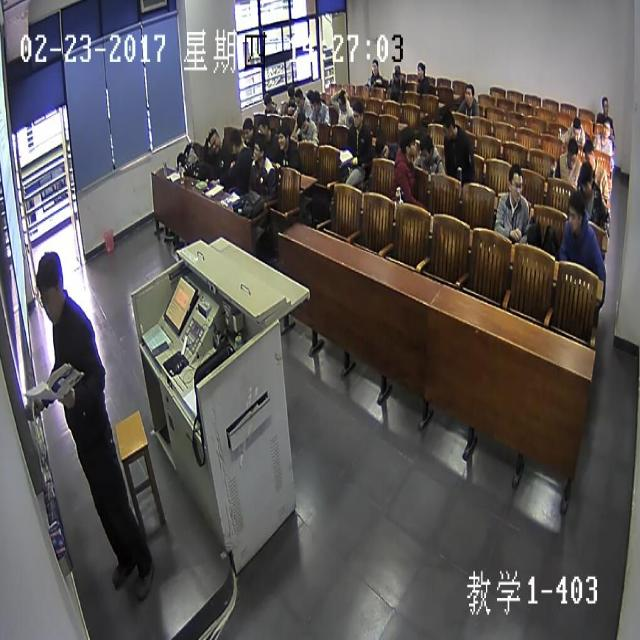person: (35, 253, 65, 318), (566, 191, 584, 232), (507, 162, 523, 205), (398, 126, 416, 159), (576, 162, 594, 195), (417, 137, 434, 169), (228, 126, 242, 154), (441, 111, 455, 137), (375, 133, 390, 157), (566, 139, 578, 167), (207, 124, 220, 149), (350, 106, 363, 131), (251, 136, 264, 160), (336, 89, 348, 114), (295, 109, 307, 134), (278, 125, 290, 148), (174, 150, 189, 168), (242, 117, 254, 139), (583, 140, 595, 162), (258, 116, 269, 137), (464, 84, 474, 107), (264, 88, 274, 110), (572, 116, 581, 140), (294, 88, 303, 110), (312, 93, 321, 114), (369, 58, 378, 78), (601, 117, 610, 137), (392, 66, 401, 85), (285, 83, 295, 100), (600, 94, 608, 114), (306, 90, 314, 108), (416, 62, 424, 78)
